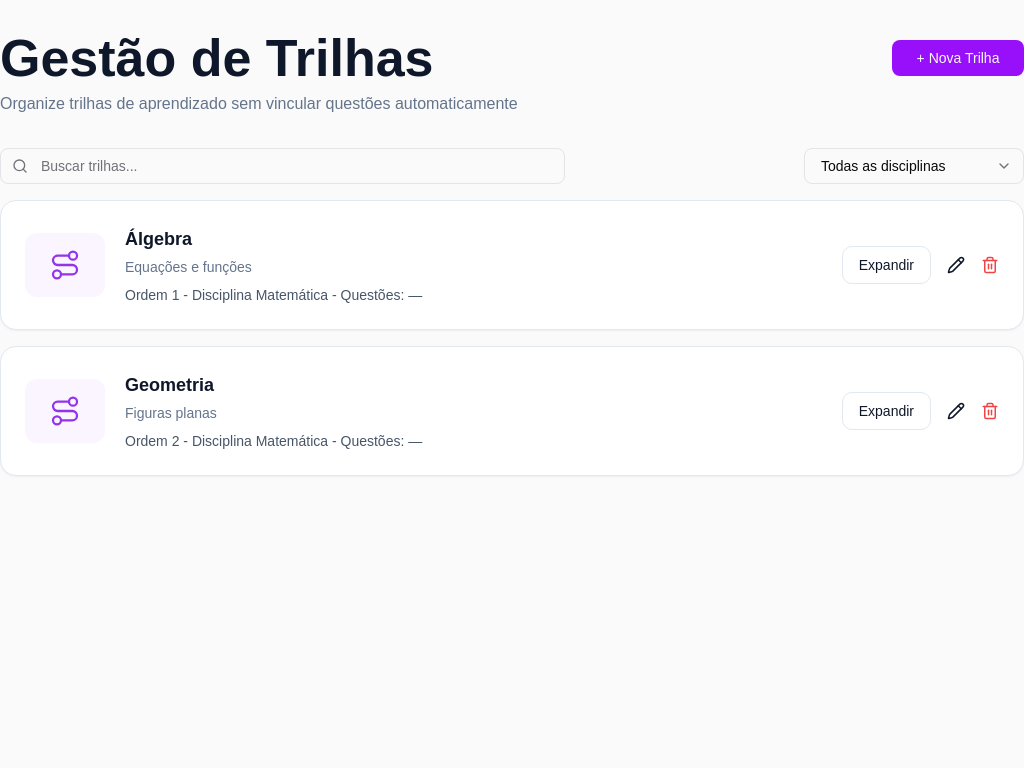
Scenario: TrailsPage › cria trilha vazia com subjectId do select e atualiza a listagem
Expected: the heading "Álgebra" is shown, [125,229,192,249]
Click the button "+ Nova Trilha" at (958, 58), box [892,40,1023,76]
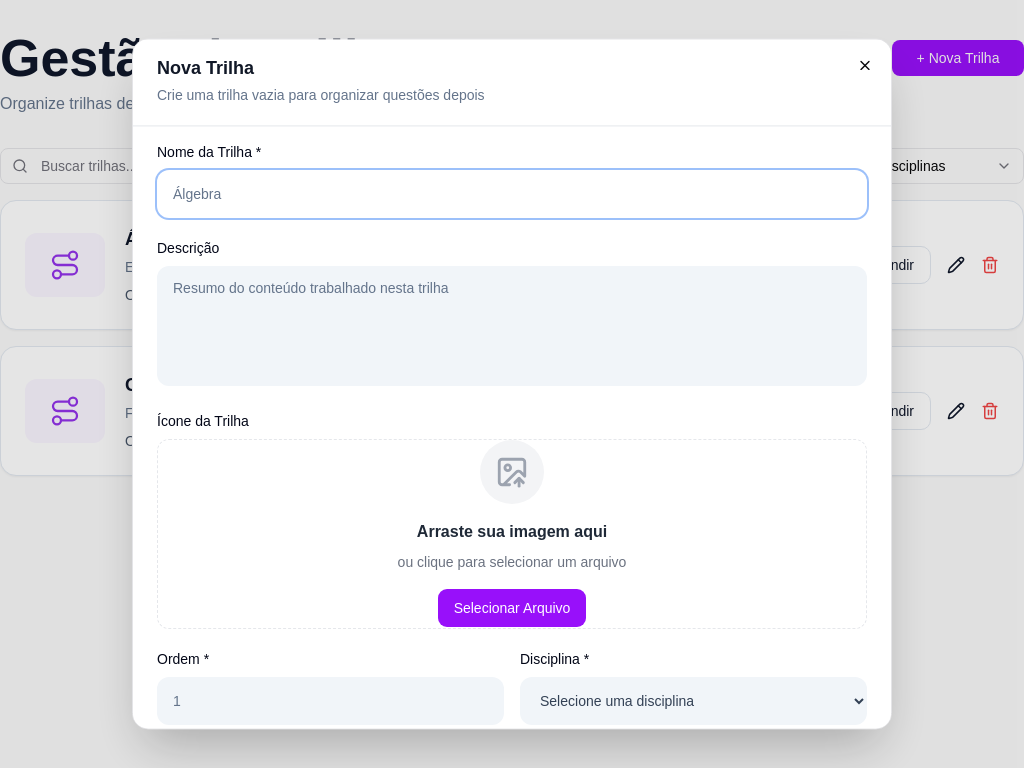
Type "Redação" into the field with placeholder "Álgebra" at (512, 194), box [157,170,867,218]
Type "Texto dissertativo" into the text box with placeholder "Resumo do conteúdo trabalhado nesta trilha" at (512, 326), box [157,266,867,386]
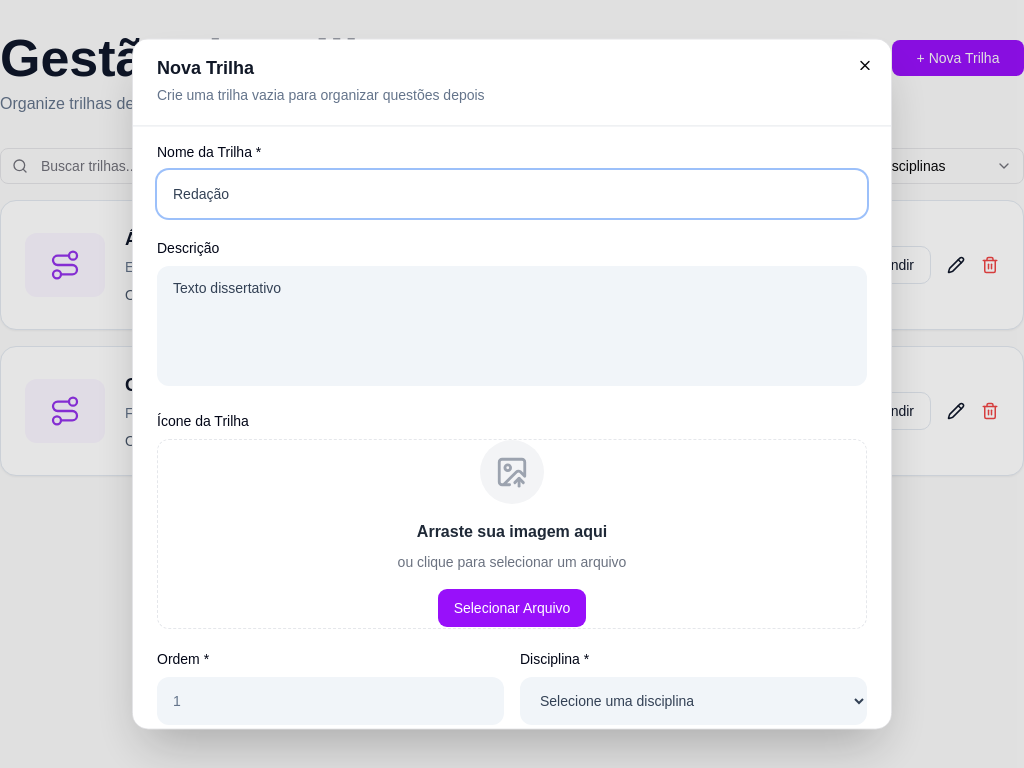
Type "3" into the field with placeholder "1" at (330, 701), box [157,677,504,725]
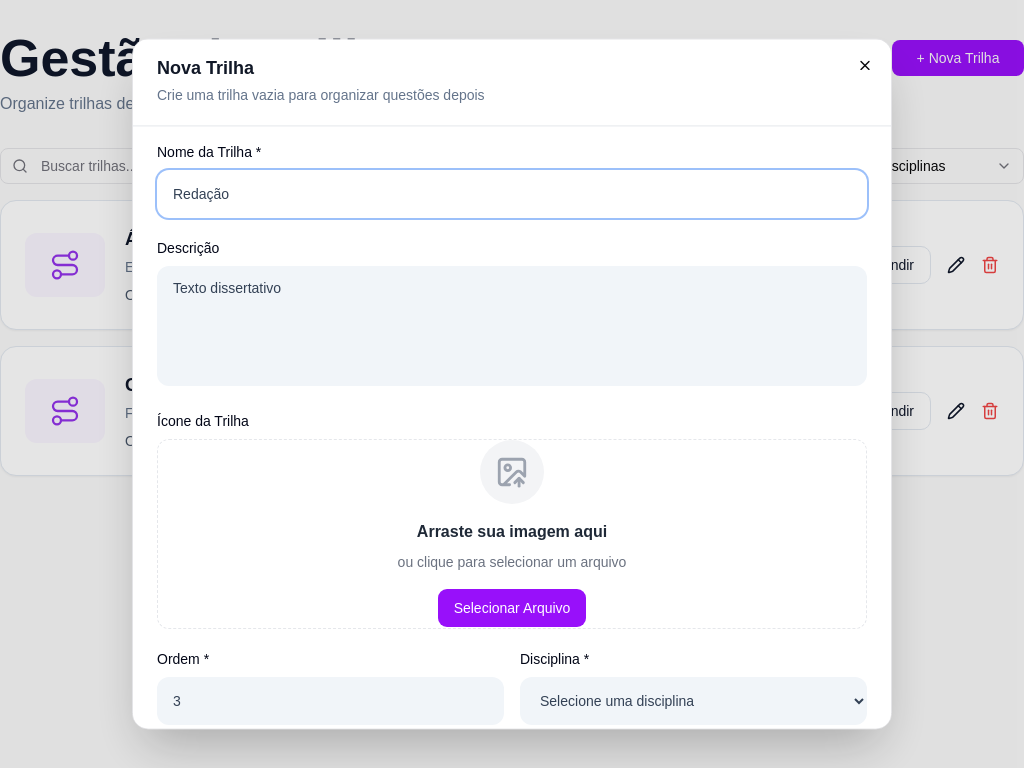
Select "Português" in the dropdown named "Selecionar disciplina" at (694, 701), box [520,677,867,725]
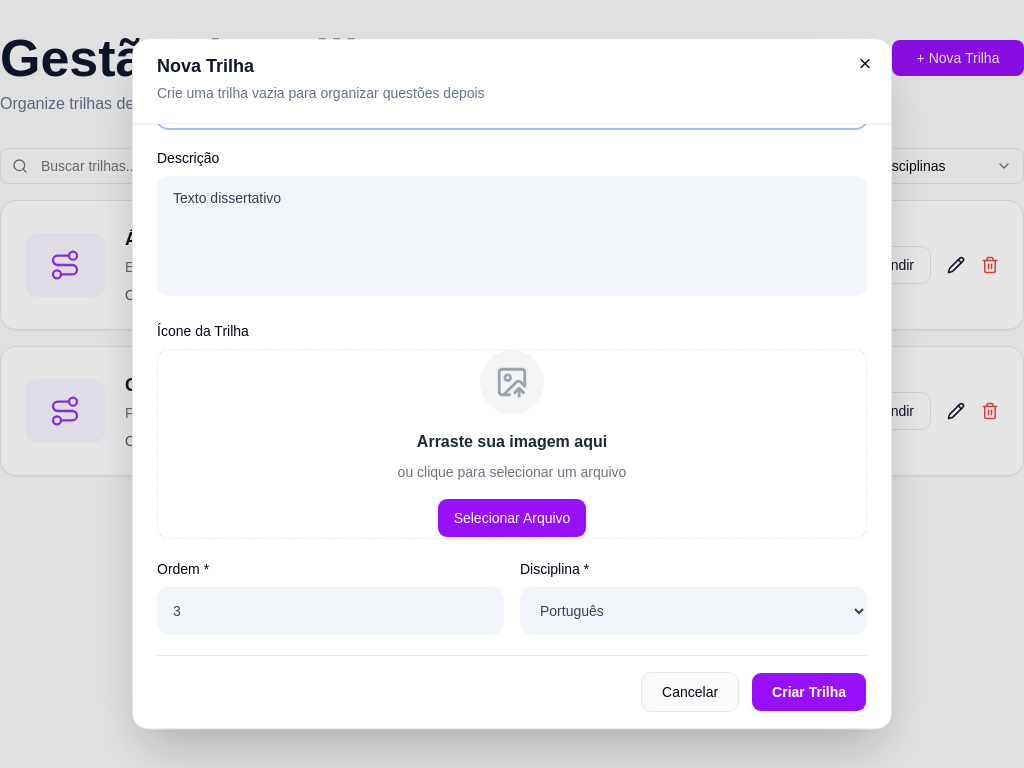
Click the button "Criar Trilha" at (809, 692), box [751,672,867,712]
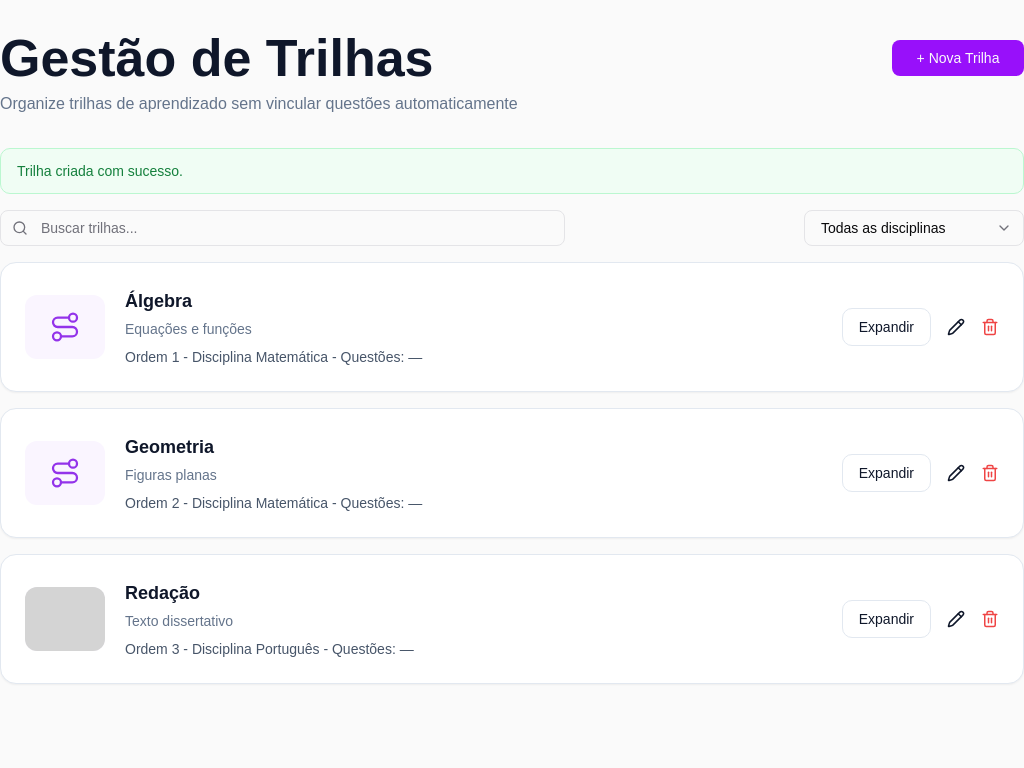
Expected: the text "Trilha criada com sucesso." is shown, [17,163,183,179]
Expected: the heading "Redação" is shown, [125,583,200,603]
Click the button "Expandir" in the row of "Texto dissertativo" at (886, 619), box [842,600,931,638]
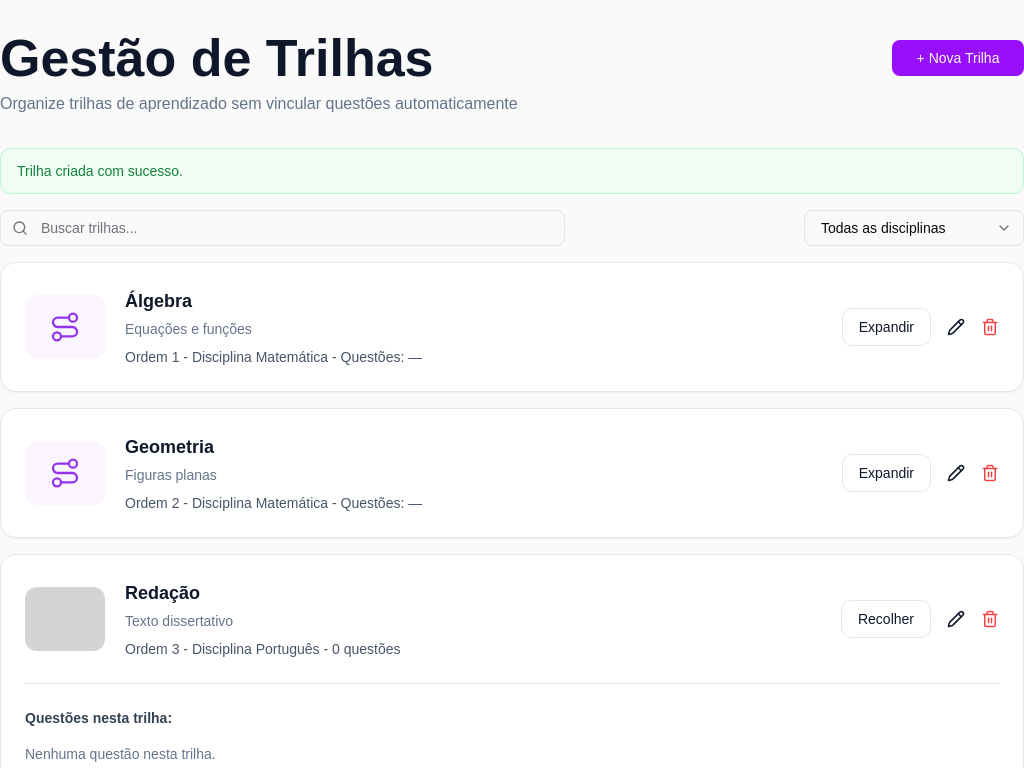
Expected: the text "Ordem 3 - Disciplina Português - 0 questões" is shown, [125,641,400,657]
